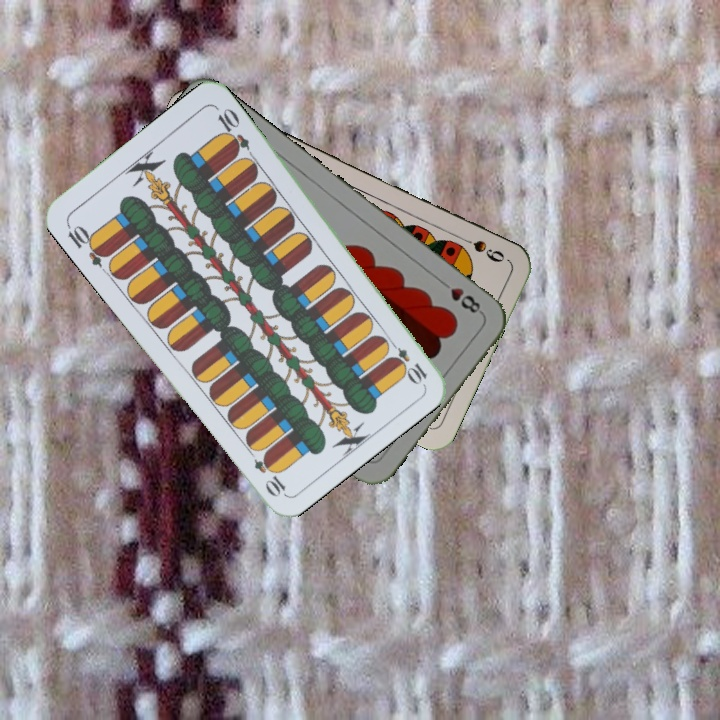E10: (62, 219, 112, 269), (383, 335, 430, 386)
H8: (435, 276, 486, 317)
S9: (453, 231, 508, 265)
